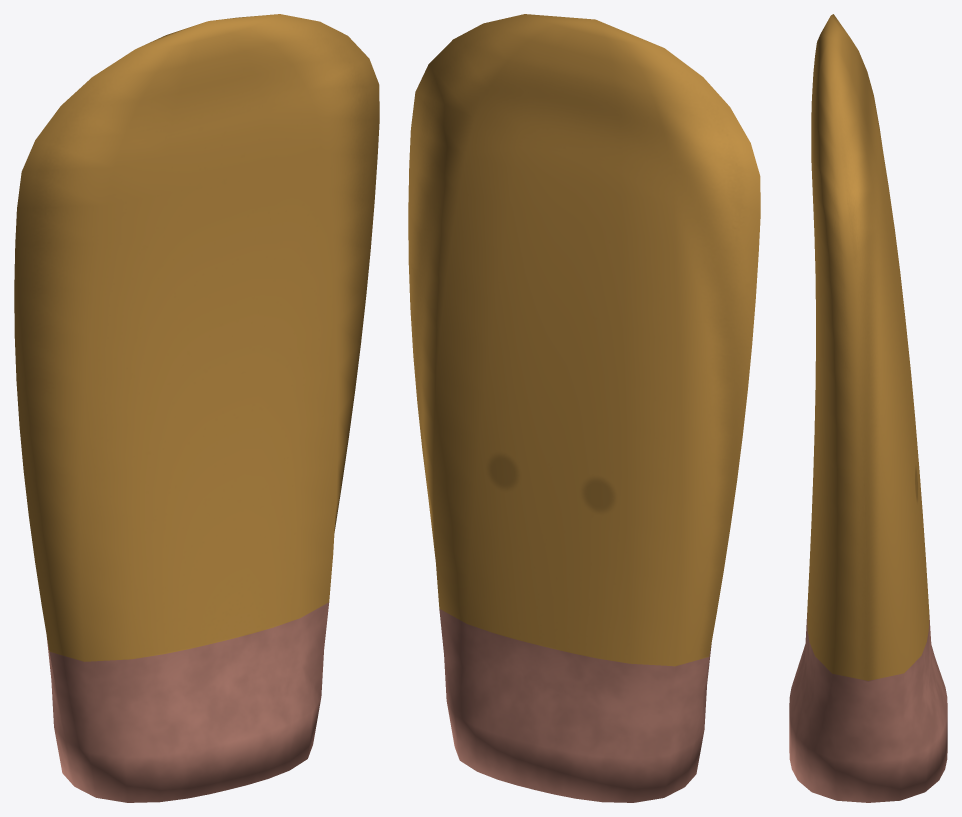
The model's file is cpart_bill.glb.
3 renders of one model, left to right at view 1: azimuth 30°, elevation 25°; view 2: azimuth 150°, elevation 25°; view 3: azimuth 270°, elevation 25°, orthographic. The views are drawn at different scales.
Parts seen in each view (by area): view 1: Bill; view 2: Bill; view 3: Bill.
Part boxes in pixels (x1,y1,x2,y2): Bill: (14, 14, 379, 802); Bill: (408, 14, 760, 802); Bill: (789, 14, 947, 802).
Size of the model in its own units: 0.0806 by 0.16 by 0.0322.
2 materials, 2 textured.
